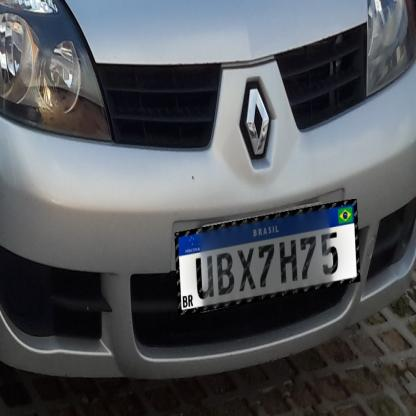PlacaM: (174, 199, 360, 315)
